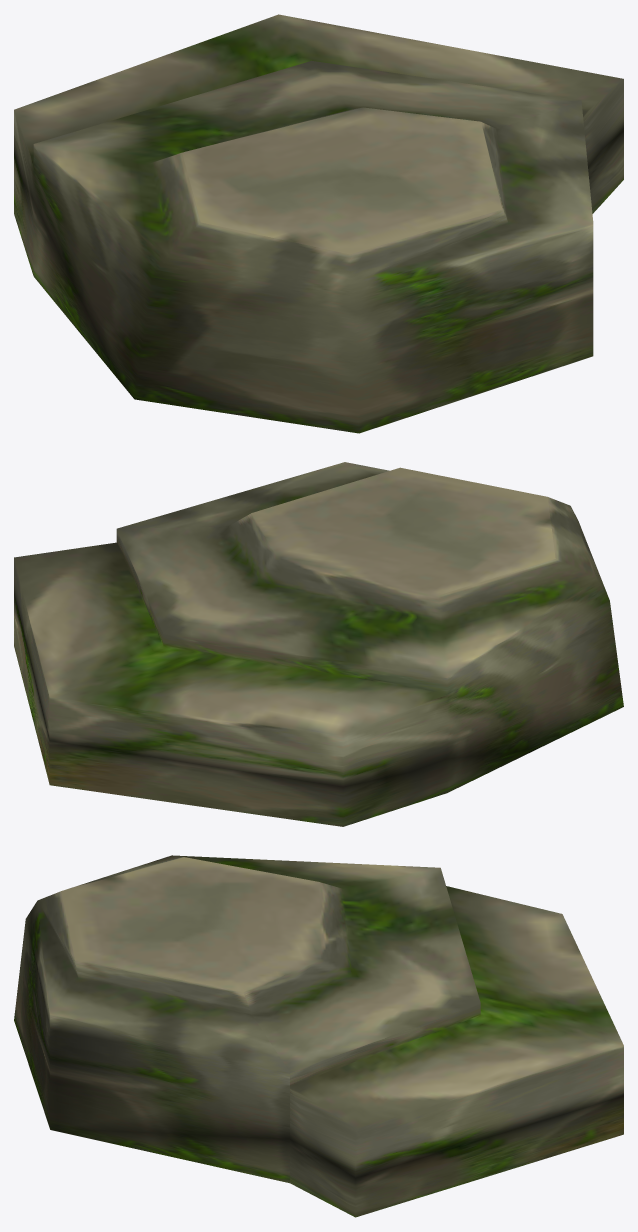
File: RockFormation_4_5 (58).fbx
3 views of the same model, one above another, from view 1: azimuth 30°, elevation 25°; view 2: azimuth 150°, elevation 25°; view 3: azimuth 270°, elevation 25° (orthographic). The views are drawn at different scales.
Visible parts, largest first — view 1: RockFormation_4_5 (58); view 2: RockFormation_4_5 (58); view 3: RockFormation_4_5 (58).
Part boxes in pixels (box(x1,y1,x2,y2)): RockFormation_4_5 (58): box(14, 14, 623, 433); RockFormation_4_5 (58): box(14, 462, 623, 826); RockFormation_4_5 (58): box(14, 855, 623, 1217).
Size of the model in its own units: 1989 by 498 by 2014.
